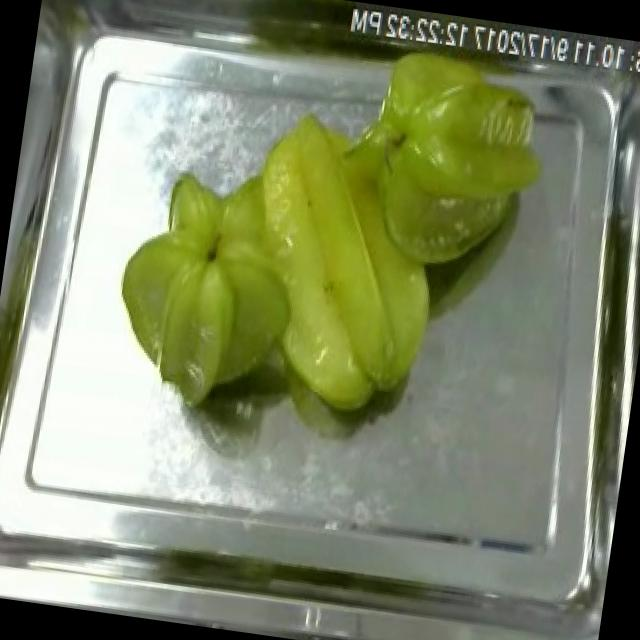fruit: (168, 84, 475, 448), (348, 26, 572, 296)
